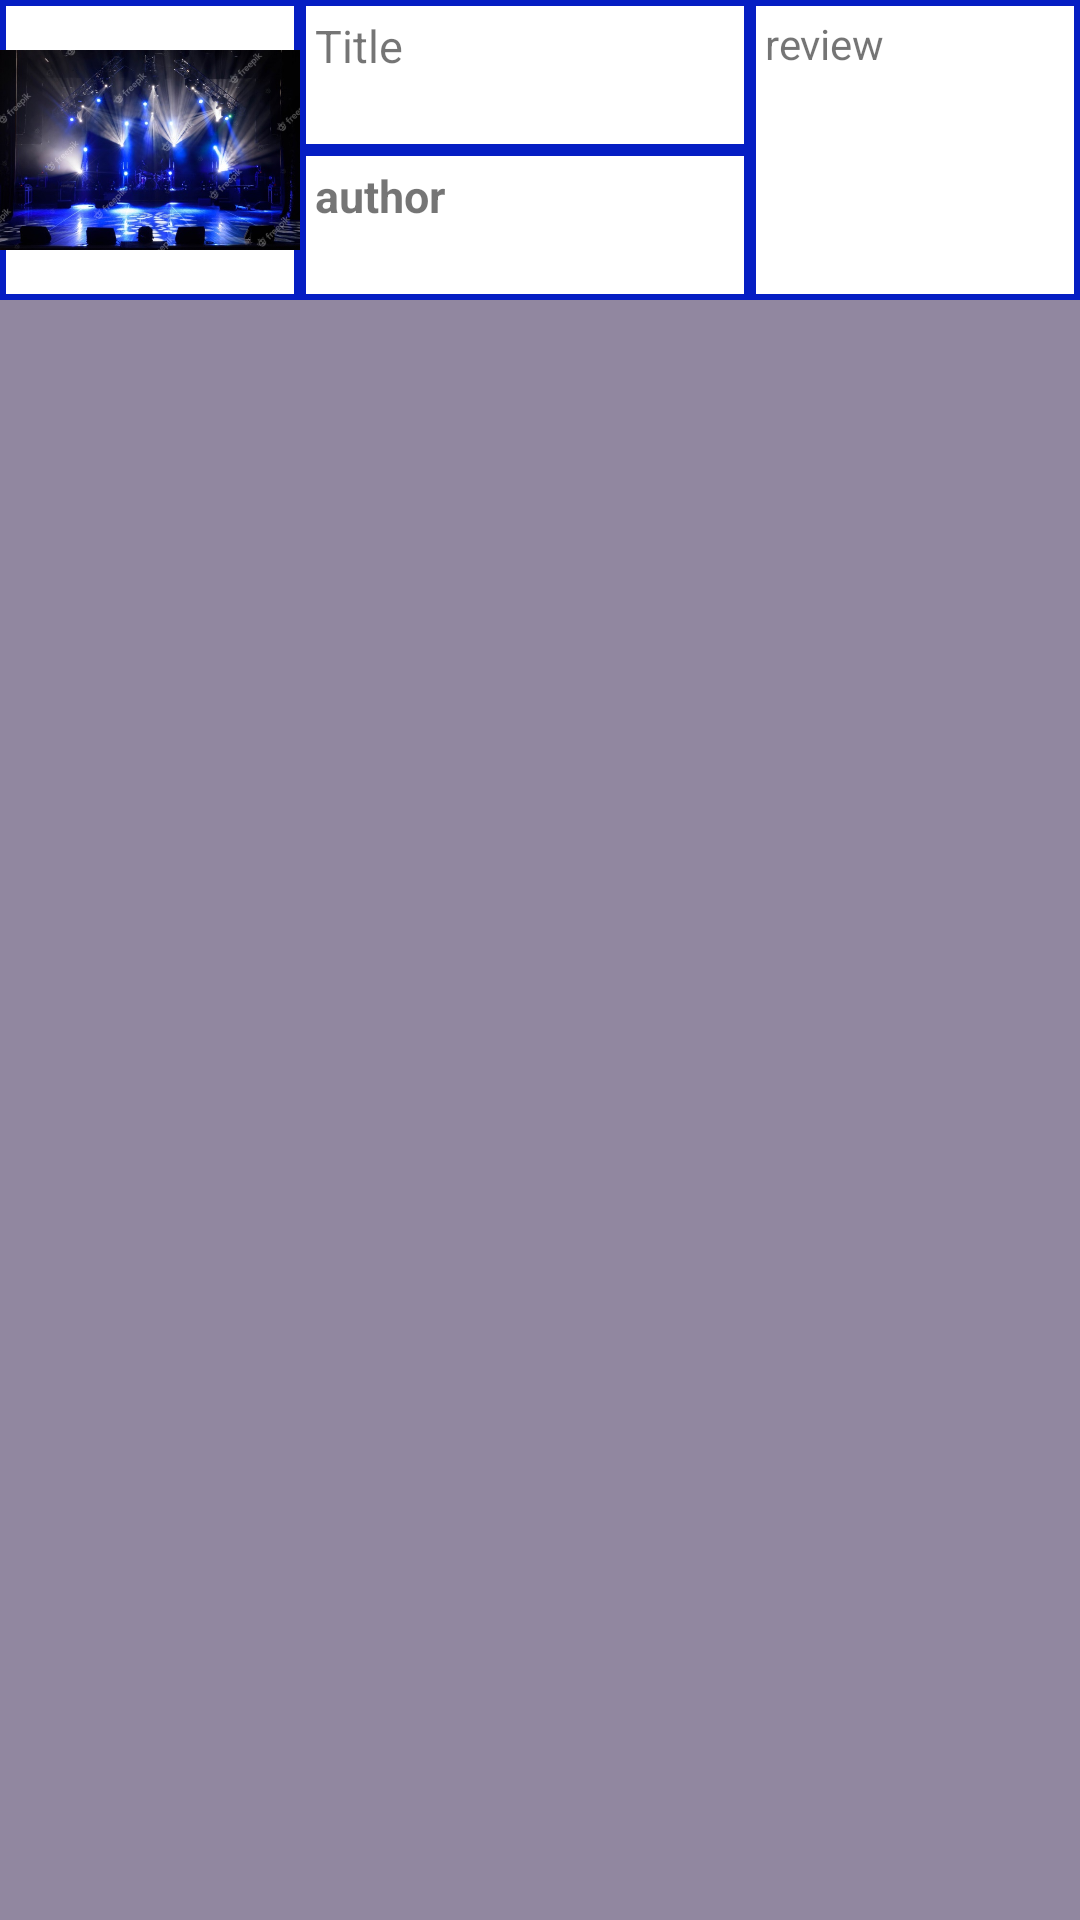

Icon click points for this 1080 × 1920 phone screenshot, format point (x, y):
concert: point (150, 150)
